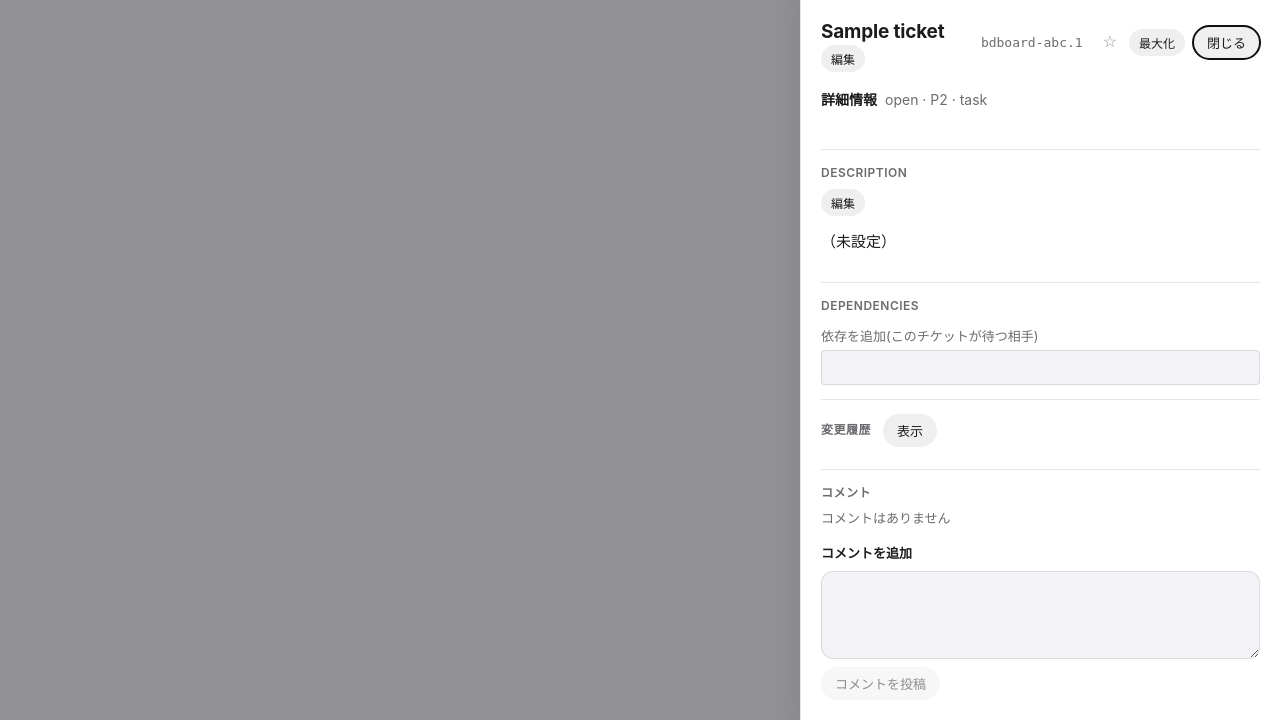
TicketDetailPanel comment shortcut › types c into the comment textarea when it already has focus
(page scrolled)
Click the text box labelled "コメントを追加" at [1040, 615], box [821, 571, 1260, 659]
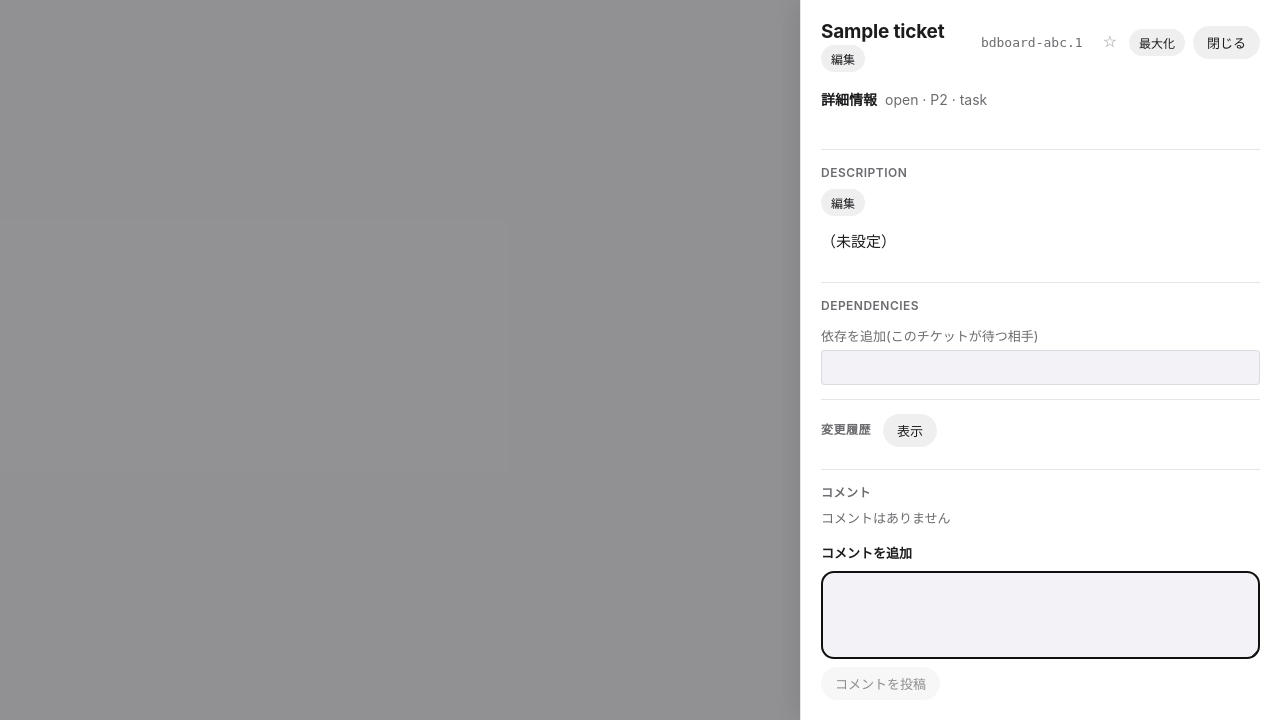
Type keys "c"
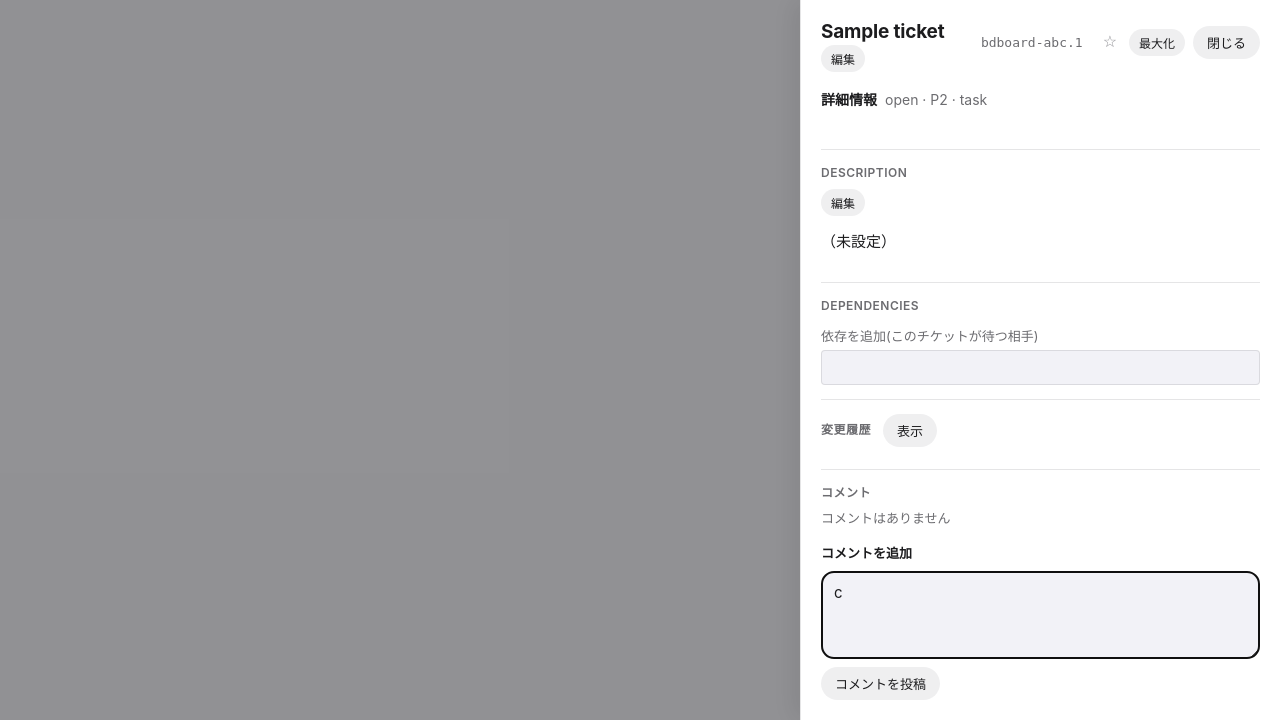
Now the text box labelled "コメントを追加" holds "c", box [821, 571, 1260, 659]
